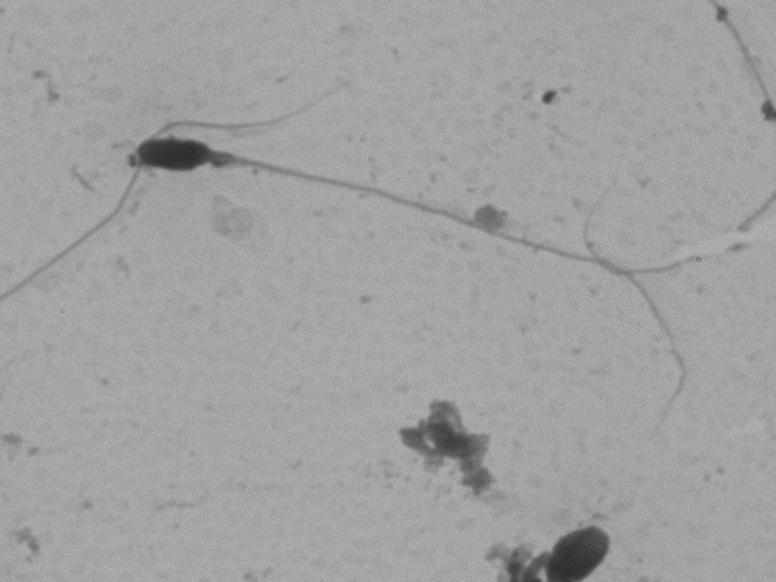Abnormal: (123, 115, 692, 438)
